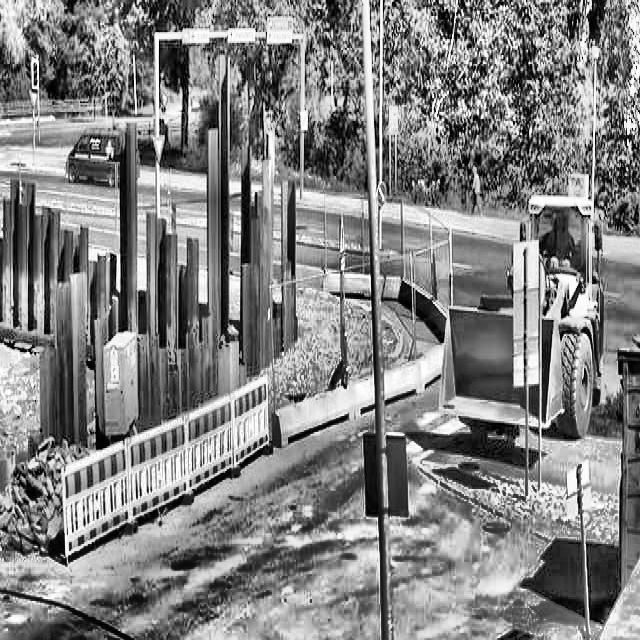buldozerpayloadergrader: (441, 188, 614, 464)
